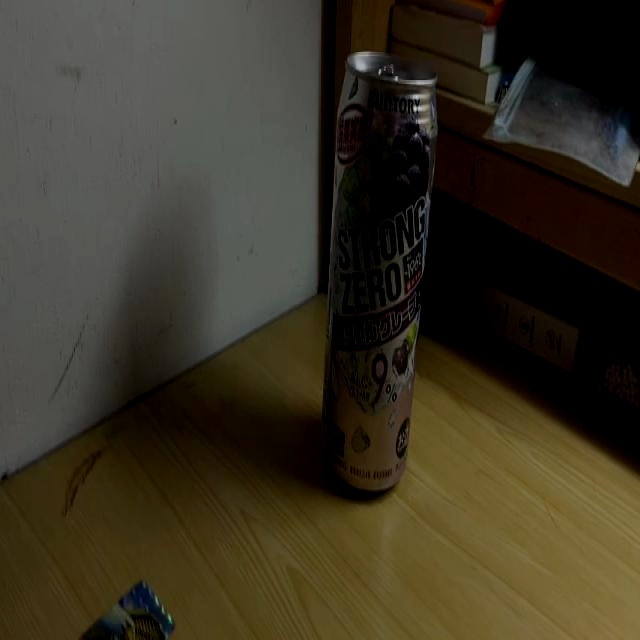Liquor: (320, 52, 438, 492)
